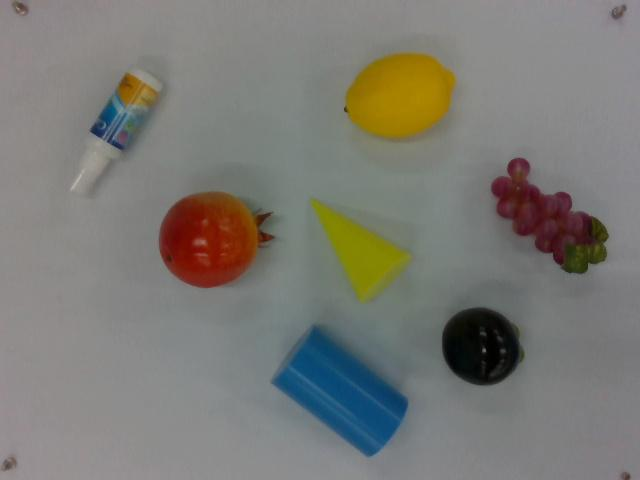cone: (307, 193, 413, 305)
cylinder: (269, 319, 414, 457)
detergent: (72, 63, 165, 202)
grape: (490, 153, 610, 275)
lemon: (341, 48, 454, 141)
mangosteen: (441, 303, 527, 388)
pomegranate: (158, 191, 275, 294)
